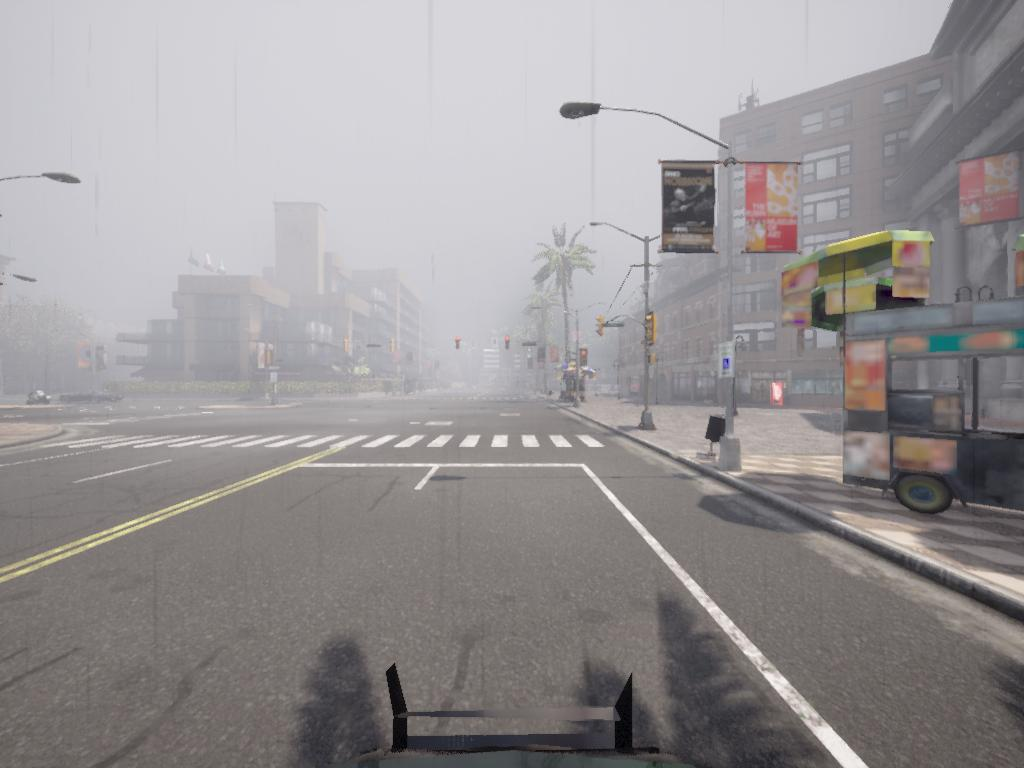traffic_light: (647, 314, 660, 344), (267, 349, 277, 371), (597, 319, 607, 338), (583, 351, 592, 366), (649, 354, 658, 368), (454, 337, 462, 350), (343, 339, 349, 356), (504, 336, 511, 349), (390, 339, 395, 356)
